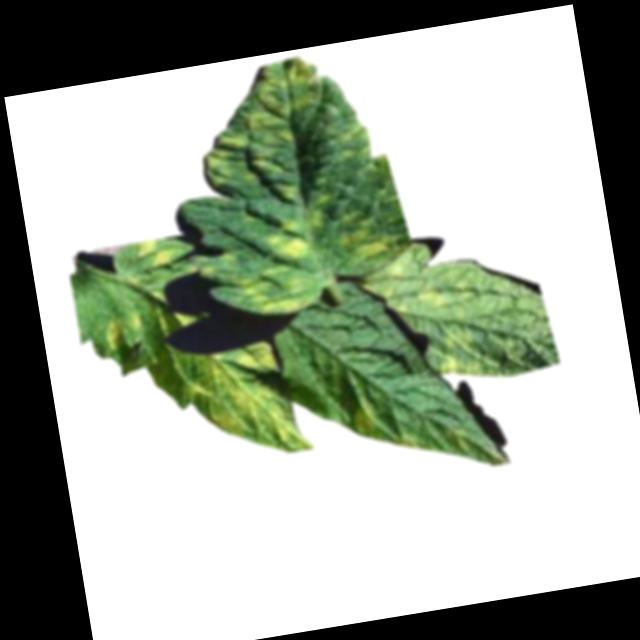Leaf_Mold: (188, 56, 337, 214), (181, 337, 312, 470), (357, 242, 489, 325), (235, 263, 318, 321), (435, 324, 497, 383), (334, 216, 399, 271), (263, 216, 313, 263), (346, 390, 386, 435), (136, 234, 178, 271), (103, 313, 128, 351), (397, 430, 427, 451)
